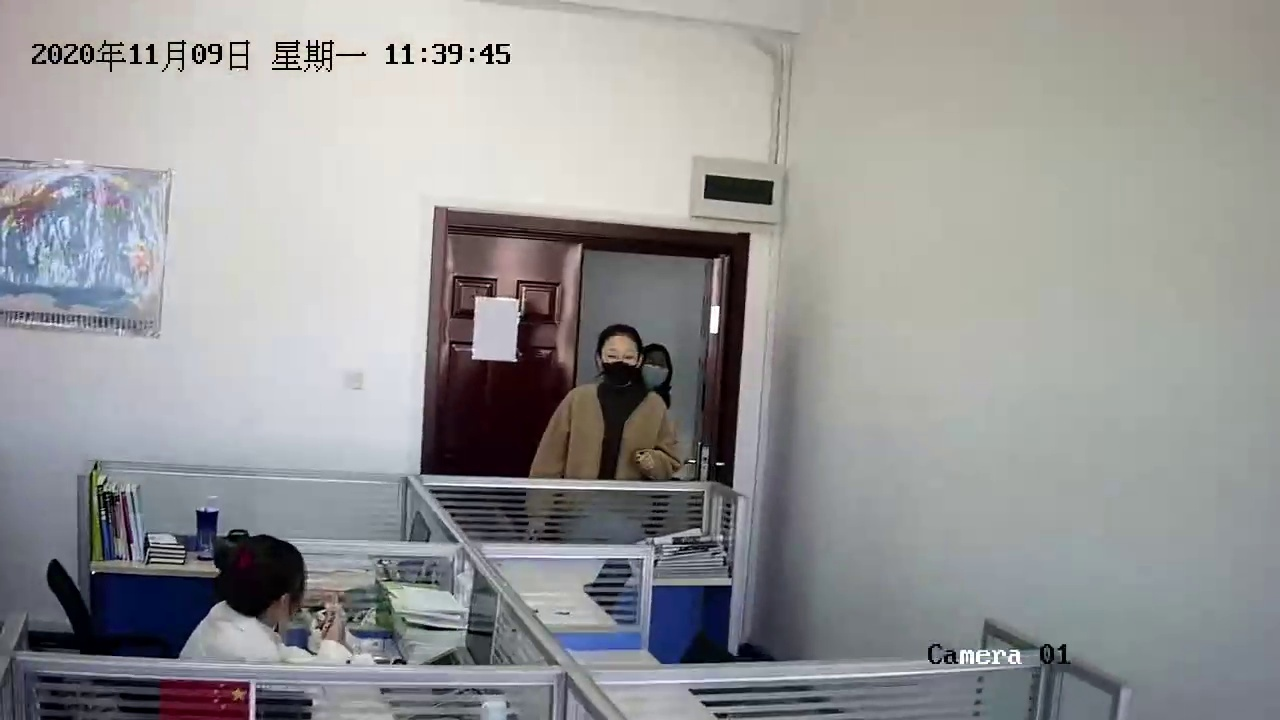mask: (599, 325, 641, 392), (643, 339, 681, 399)
